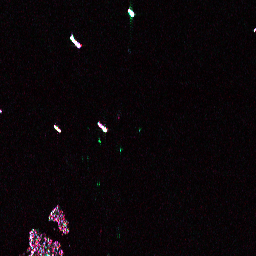ship: (67, 33, 83, 50), (95, 120, 109, 134), (125, 5, 137, 20), (52, 123, 64, 135)
